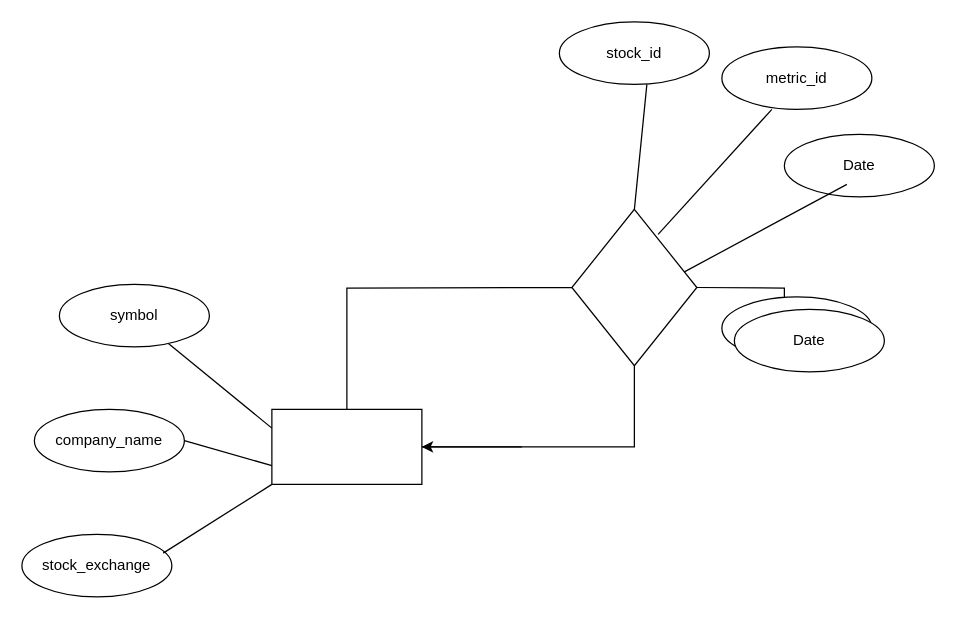
This 956x619 diagram has some shape labels left out. The centre of each missing label's shape, as x and y in pixels:
DailyStockMetric: (634,287)
Stock: (346,446)
